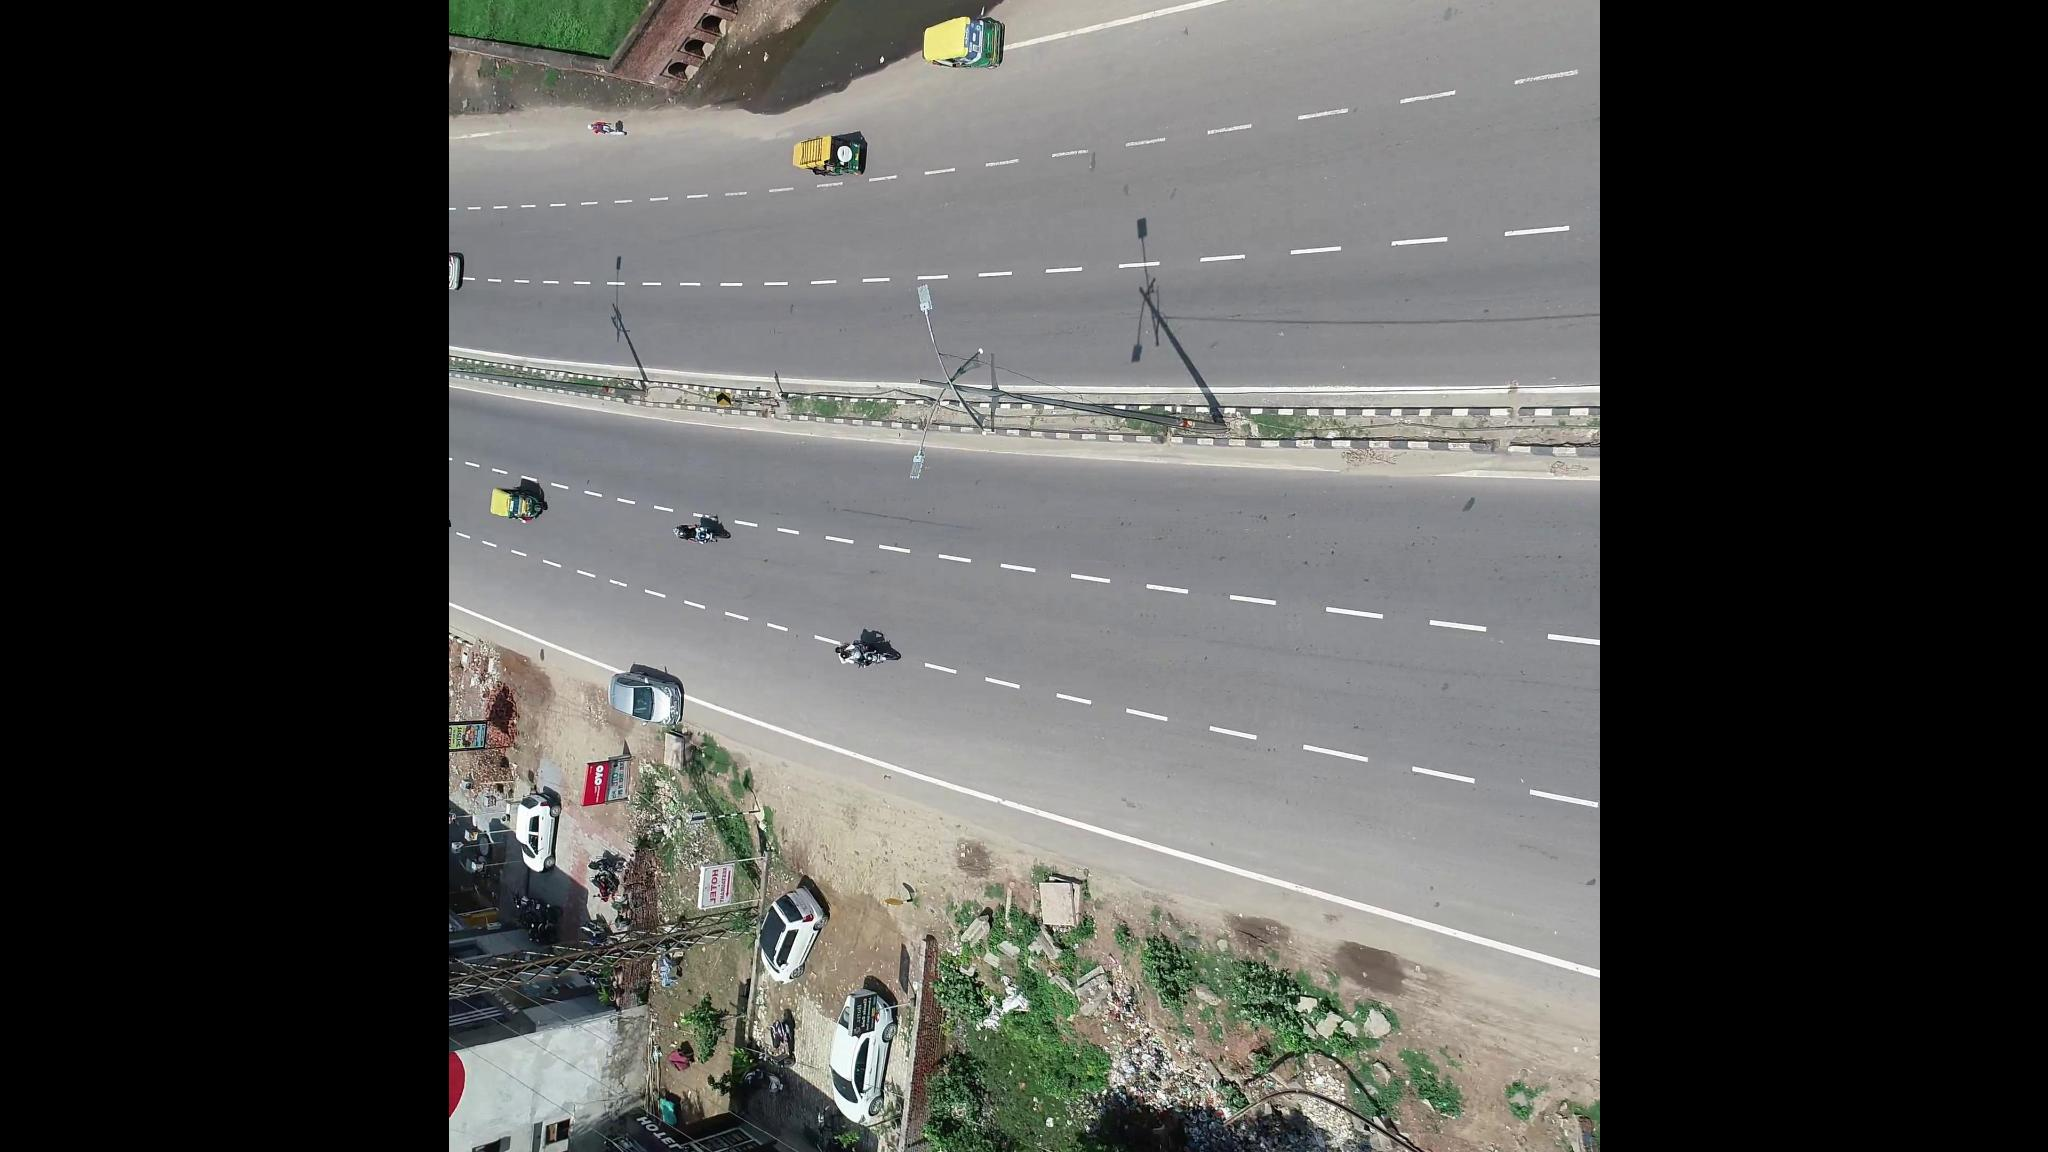Waterlogging: (724, 1, 914, 111)
